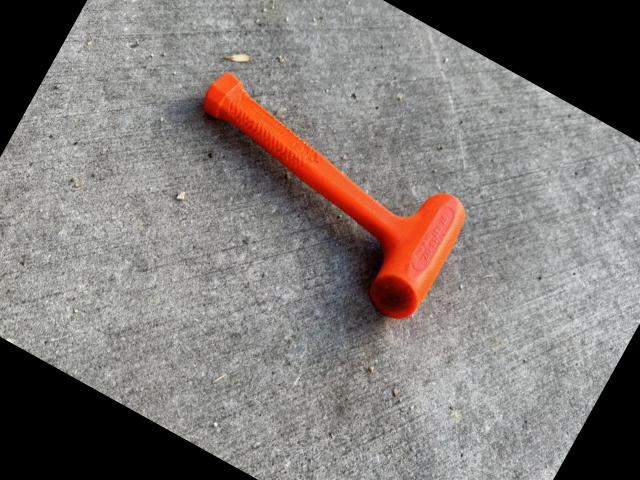hammer: (152, 63, 475, 326)
